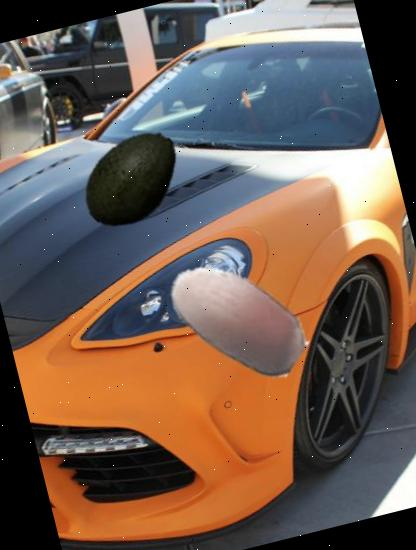Avocado: (65, 112, 200, 248)
Hazelnut: (146, 224, 328, 406)
